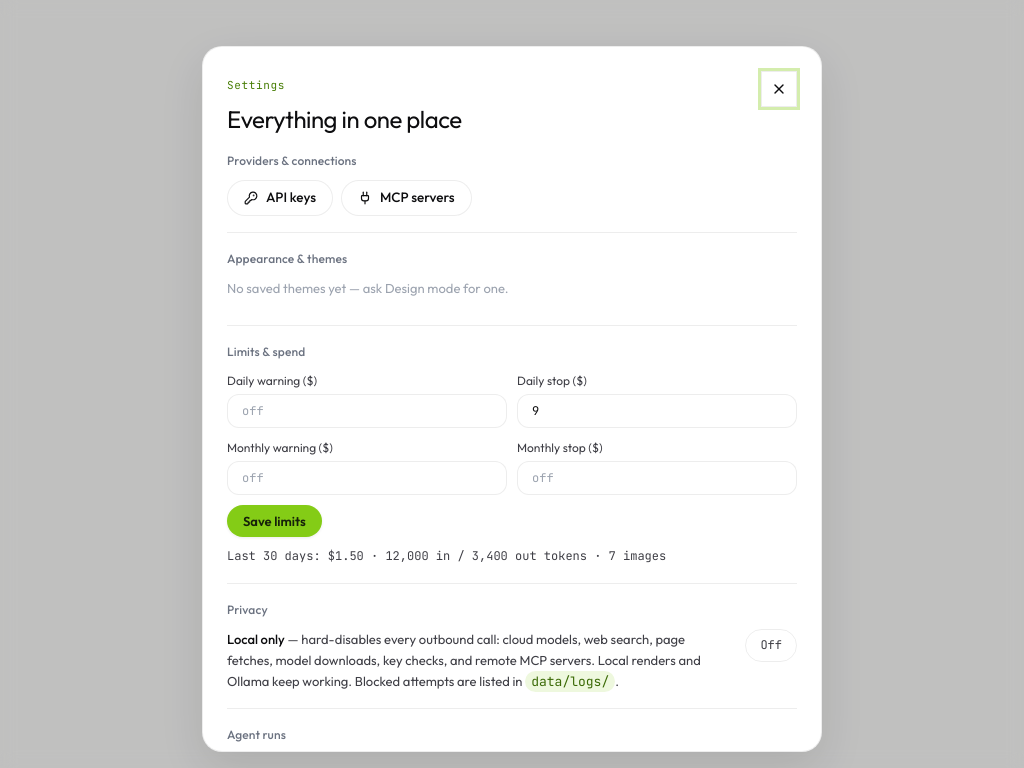
SettingsDialog › saves the limits as numbers, clears blanks to null, and confirms
expect the field labelled "Daily stop ($)" holds "9": met, box x1=517 y1=394 x2=797 y2=428
In the field labelled "Daily warning ($)": [367, 411] box x1=227 y1=394 x2=507 y2=428, type "2.5"
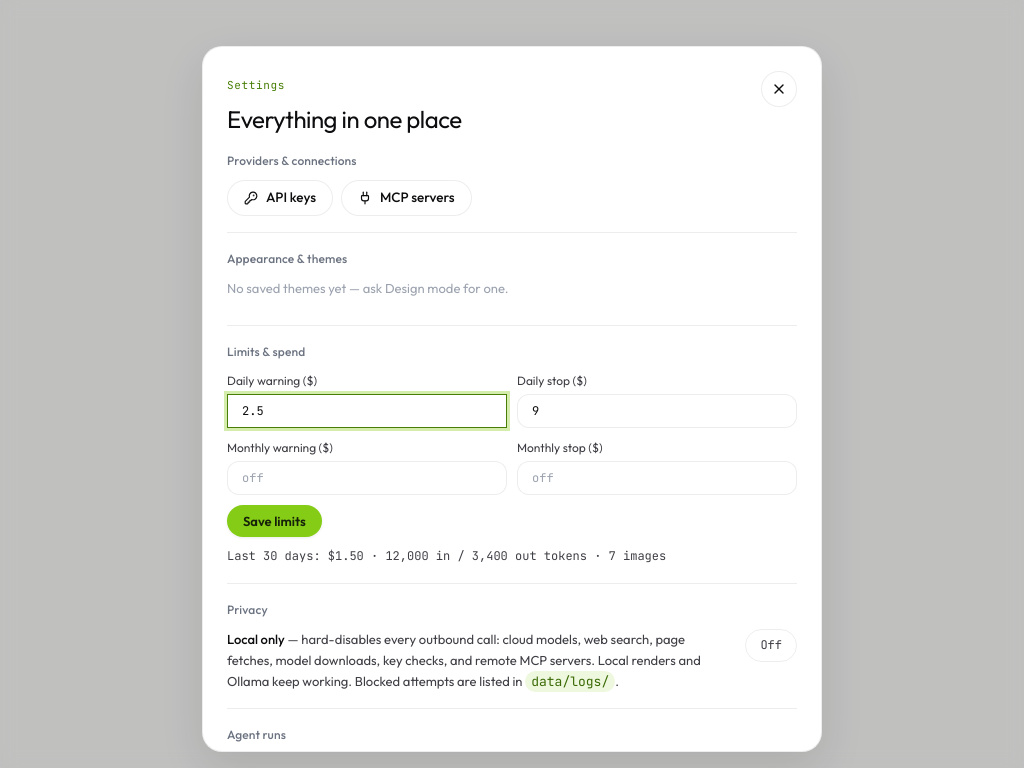
Clear the field labelled "Daily stop ($)": [657, 411] box x1=517 y1=394 x2=797 y2=428
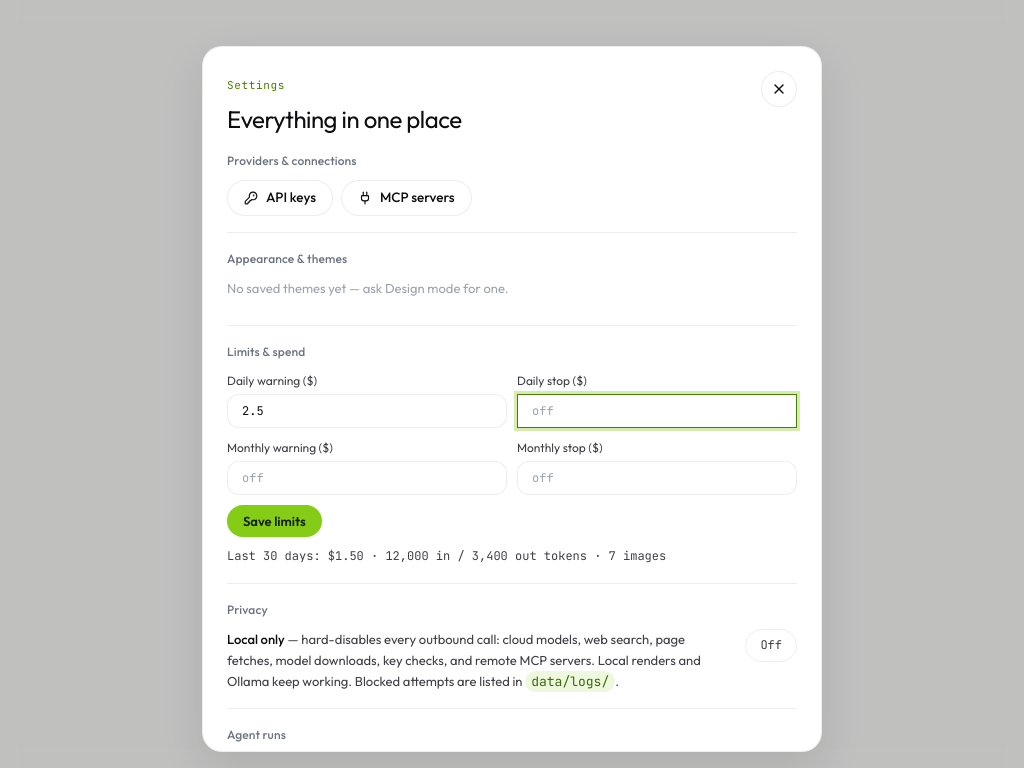
Click the button "Save limits": [274, 521] box x1=227 y1=505 x2=322 y2=537
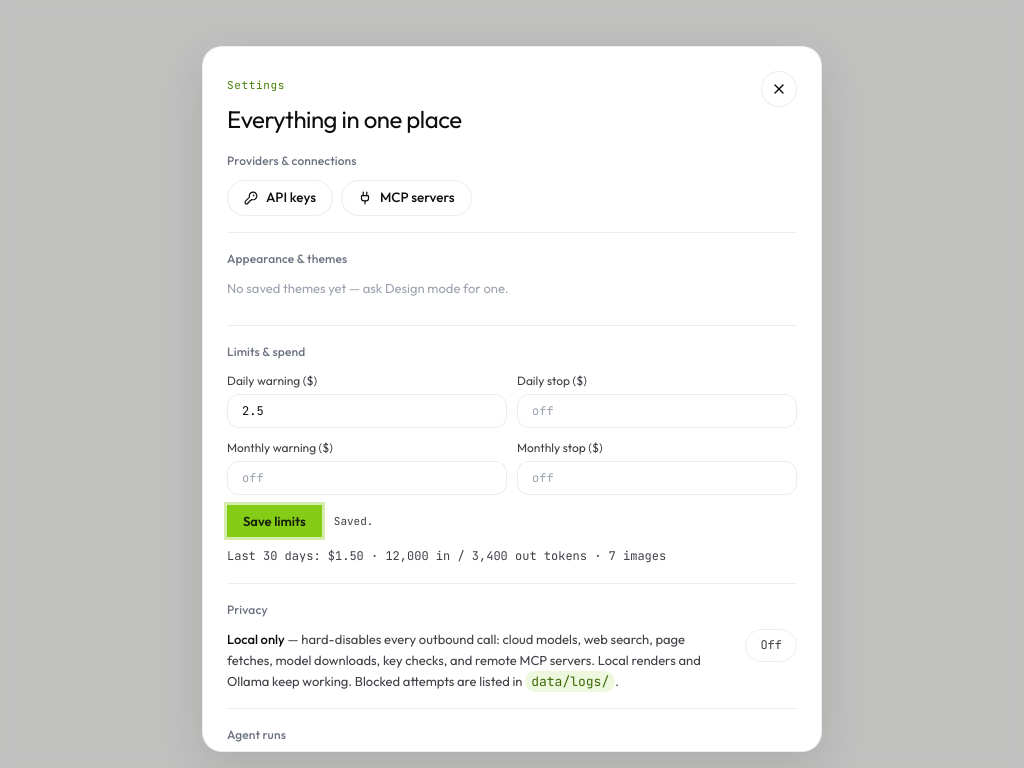
expect the text "Saved." is shown: met, box x1=334 y1=513 x2=373 y2=530
